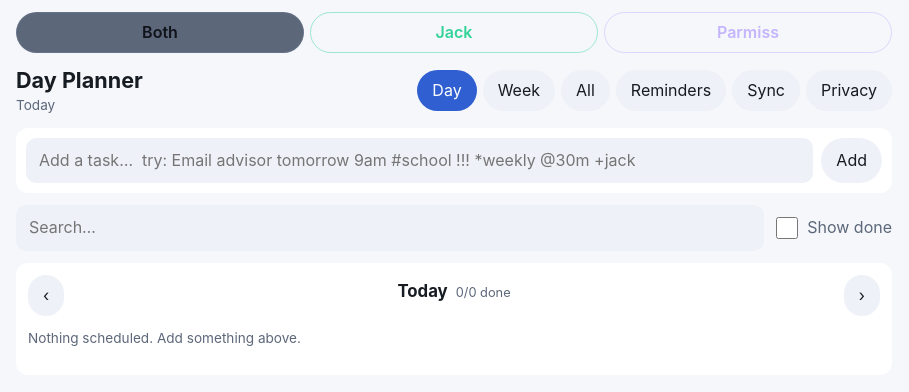
App › hides a completed task until "Show done" is checked
Type "Take out trash" into the field labelled "Add a task" at (420, 161), box x1=26 y1=138 x2=813 y2=183
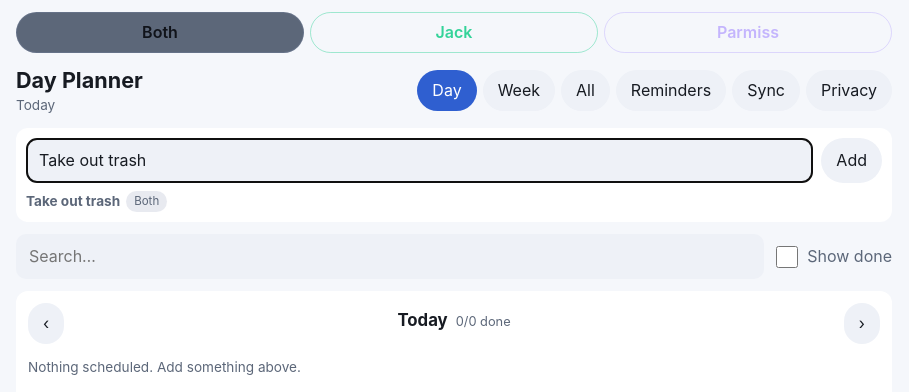
Click the button "Add" at (852, 161), box x1=821 y1=138 x2=882 y2=183
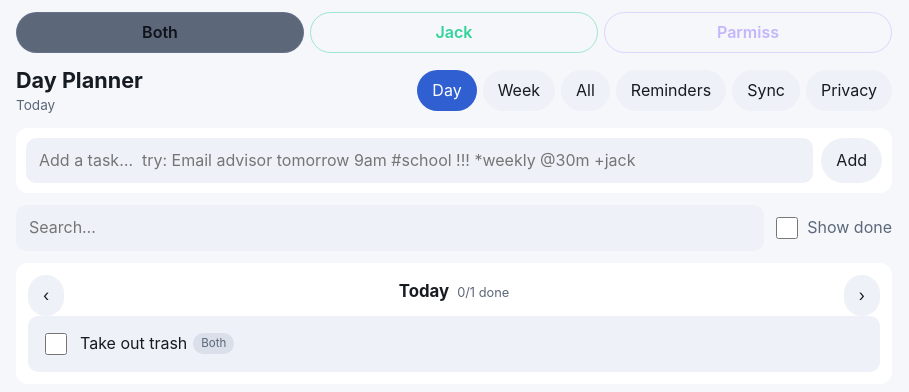
Click the checkbox named "Mark \"Take out trash\" done" at (56, 344), box x1=45 y1=333 x2=67 y2=355
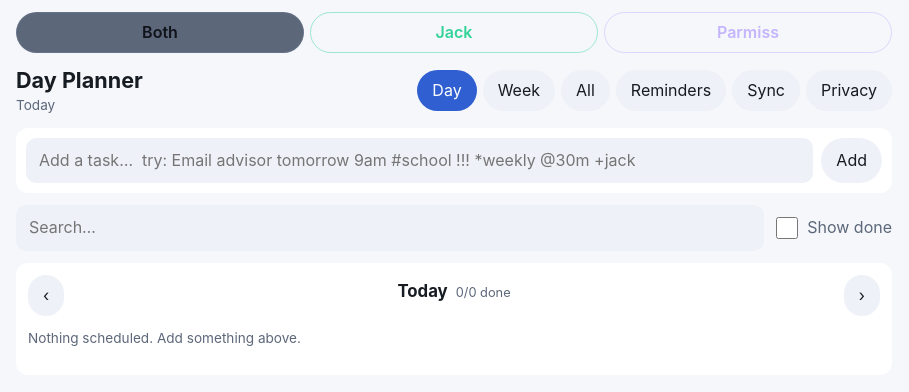
expect the button "Take out trash" is gone: met
Click the checkbox labelled "Show done" at (787, 228), box x1=776 y1=217 x2=798 y2=239
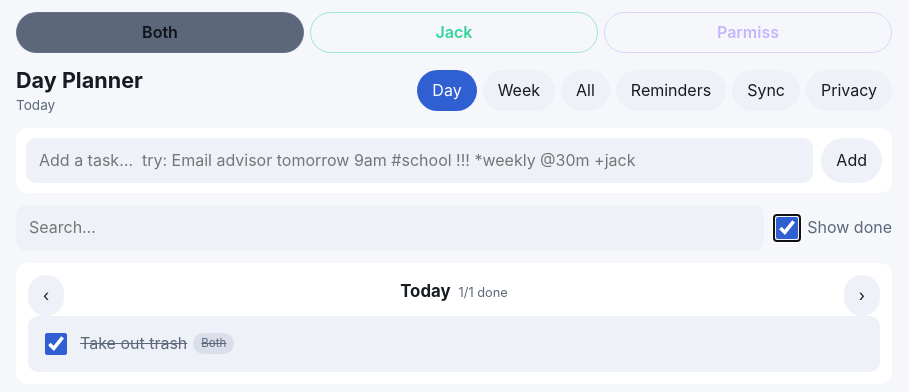
expect the text "Take out trash" is shown: met, box x1=80 y1=332 x2=187 y2=355
